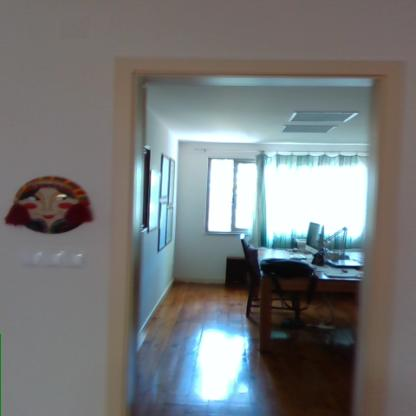open: (112, 44, 404, 409)
